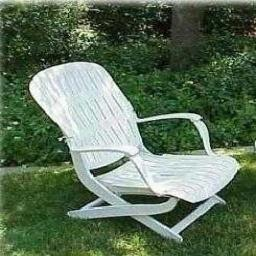Chair: (30, 62, 241, 241)
